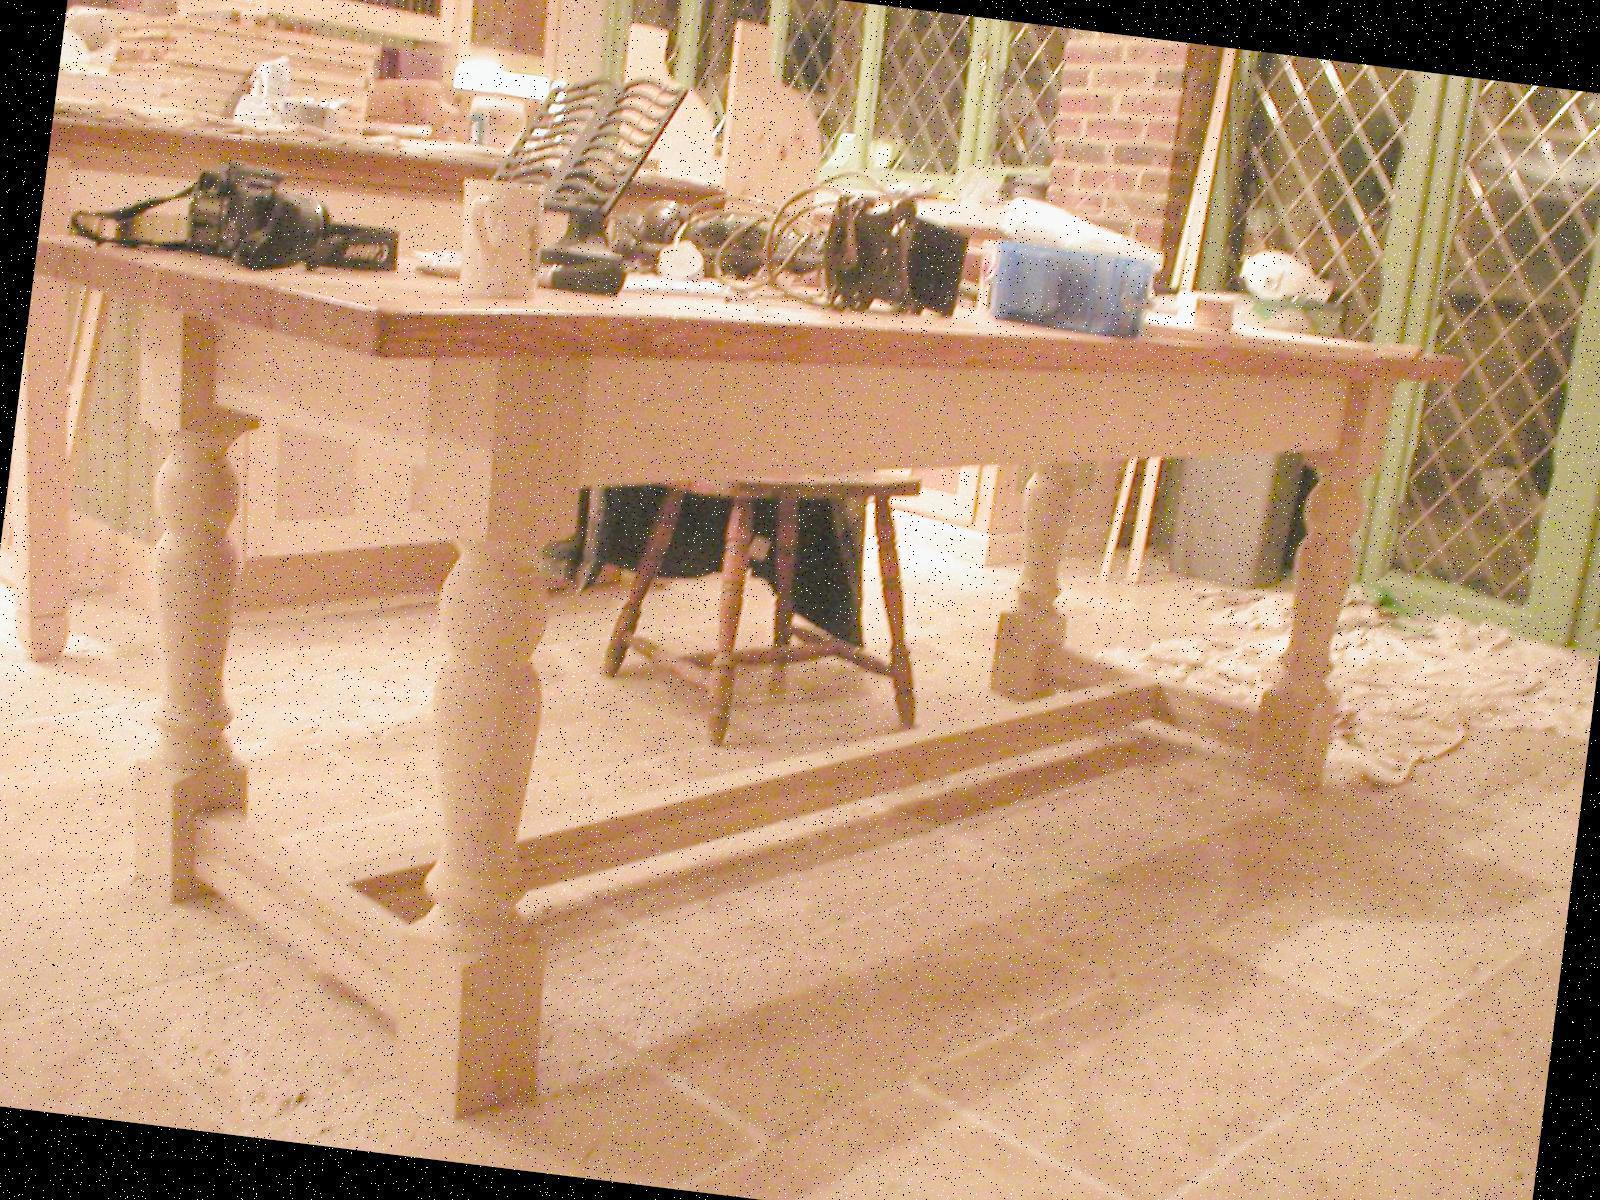Mesa: (0, 176, 1487, 1199)
